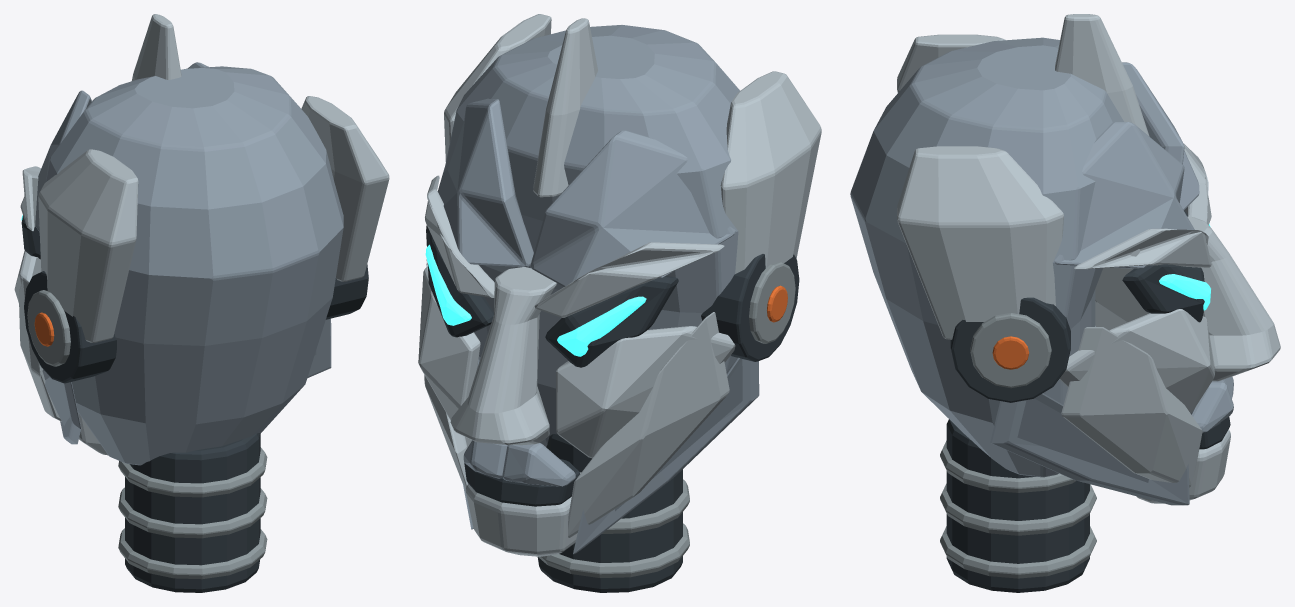
3 views of the same model, side by side, from view 1: azimuth 30°, elevation 25°; view 2: azimuth 150°, elevation 25°; view 3: azimuth 270°, elevation 25° (orthographic). The views are drawn at different scales.
Visible parts, largest first — view 1: Head_hero; view 2: Head_hero; view 3: Head_hero.
Boxes of the visible parts, x1,y1,x2,y2 form: Head_hero: (14,14,389,592); Head_hero: (418,14,821,592); Head_hero: (850,14,1280,592).
Size of the model in its own units: 0.3786 by 0.6166 by 0.4371.
